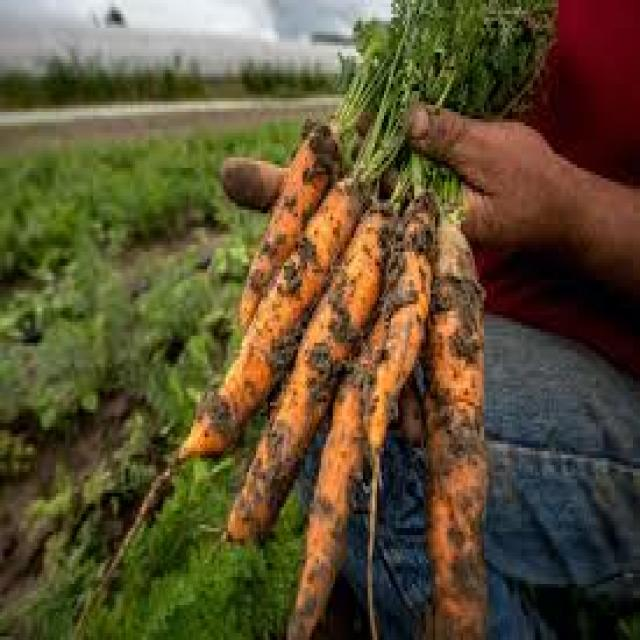biodegradable: (277, 189, 435, 636), (221, 196, 389, 531), (173, 172, 366, 459), (63, 406, 302, 637), (419, 203, 489, 636), (351, 0, 497, 178), (235, 112, 340, 325), (100, 238, 191, 434), (0, 301, 100, 462), (438, 0, 556, 119), (0, 144, 79, 277), (328, 14, 400, 150), (79, 133, 177, 231), (187, 214, 238, 375), (384, 151, 463, 214), (165, 126, 221, 213), (219, 150, 279, 203), (219, 119, 291, 157), (230, 199, 263, 231)
